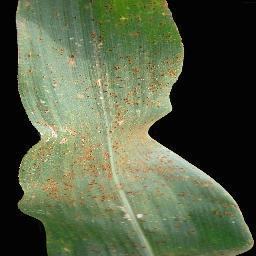Corn_Common_Rust: (8, 92, 255, 256), (9, 0, 190, 95)
